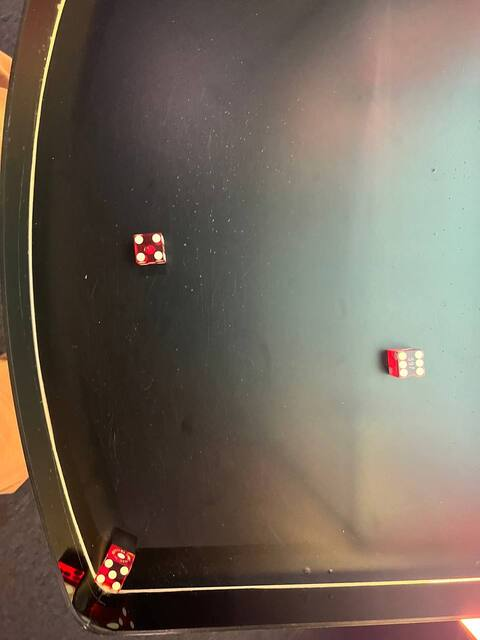five: (91, 556, 130, 593)
four: (128, 227, 166, 269)
six: (392, 344, 429, 383)
